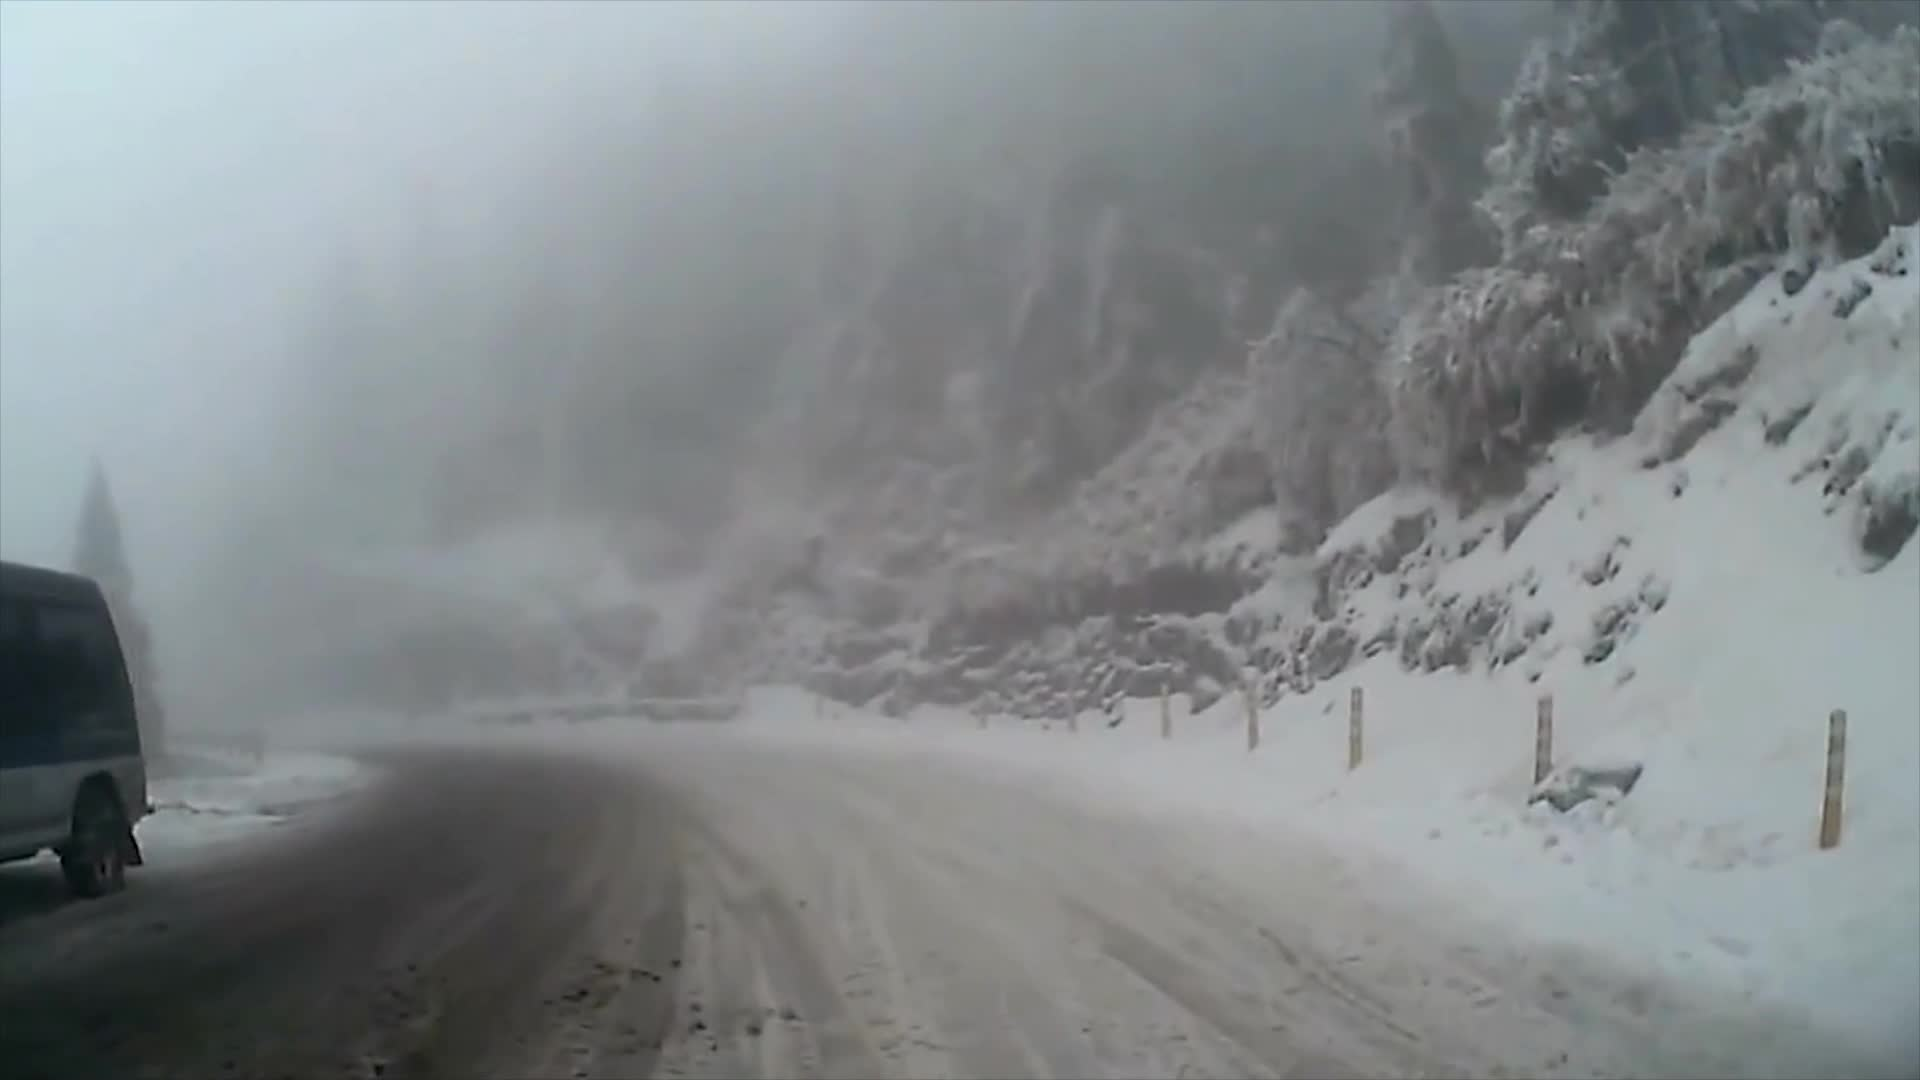vehicle: (0, 556, 158, 902)
